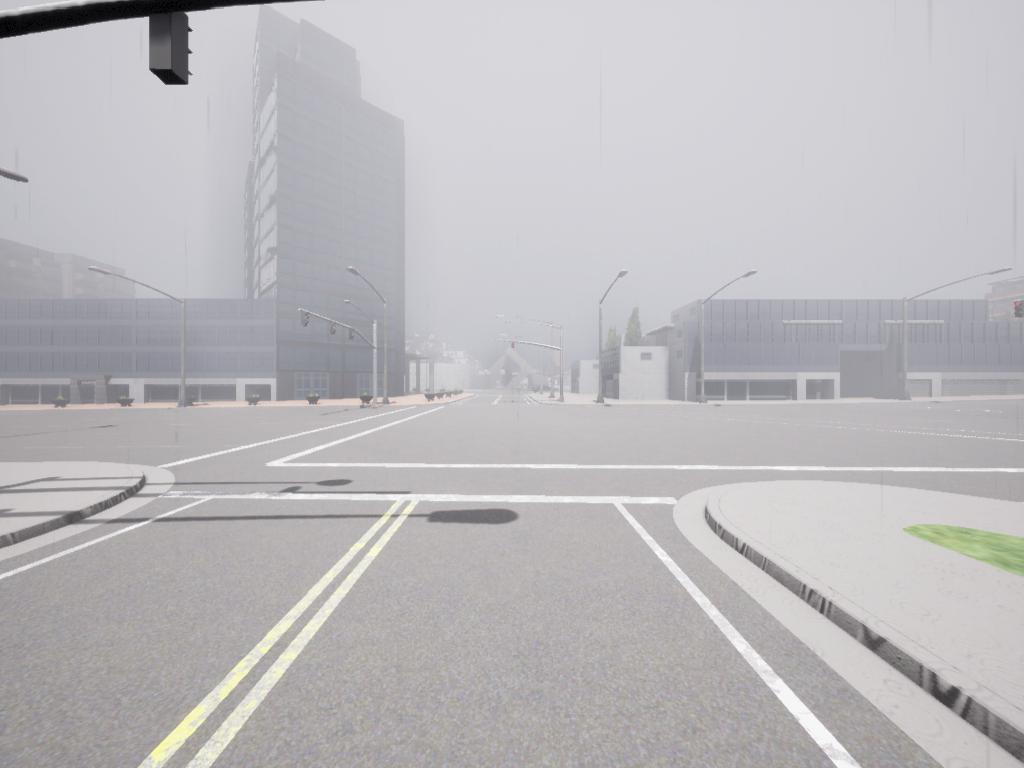traffic_light: (150, 16, 196, 86), (301, 310, 311, 328), (329, 320, 338, 337), (349, 326, 355, 342), (513, 342, 516, 352)
